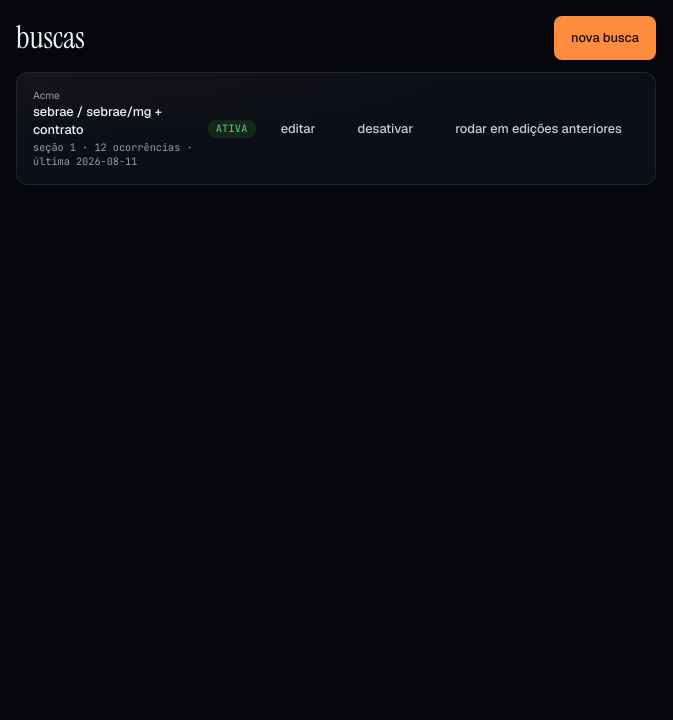
clicking editar opens the form populated with that watch
Click the button "editar": (298, 129) [264, 107, 333, 151]
(page scrolled)
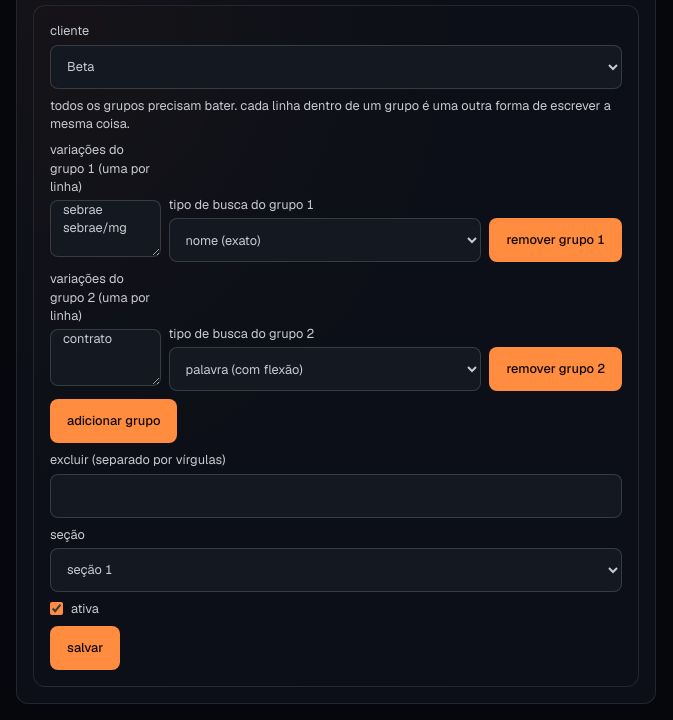
Result: the button "salvar" is shown at [50, 626, 120, 670]
